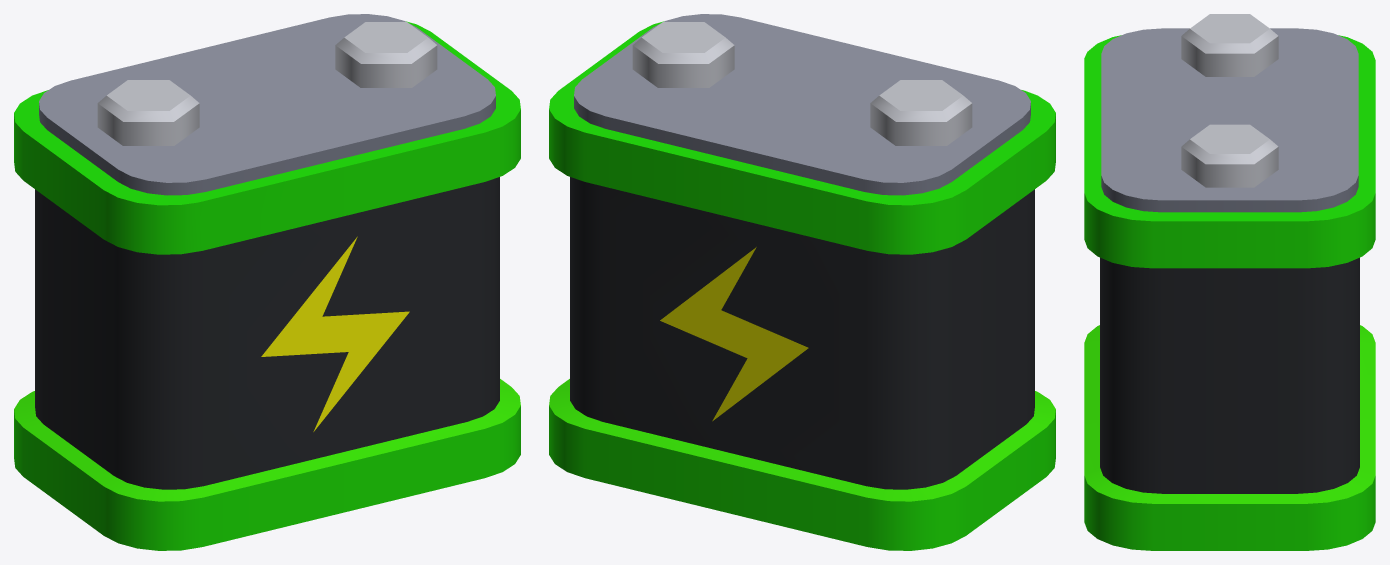
Rendered from NF_IT_Cell_Solo.fbx.
3 renders of one model, left to right at view 1: azimuth 30°, elevation 25°; view 2: azimuth 150°, elevation 25°; view 3: azimuth 270°, elevation 25°, orthographic. The views are drawn at different scales.
Visible parts, largest first — view 1: NF_IT_Cell_Solo; view 2: NF_IT_Cell_Solo; view 3: NF_IT_Cell_Solo.
Part boxes in pixels (left/top/right/bottom): NF_IT_Cell_Solo: left=14, top=14, right=520, bottom=550; NF_IT_Cell_Solo: left=549, top=14, right=1055, bottom=550; NF_IT_Cell_Solo: left=1084, top=14, right=1375, bottom=550.
Bounding box in the file's own units: 0.8642 × 0.7901 × 0.5613.
Materials: 1 (1 with a texture image).
